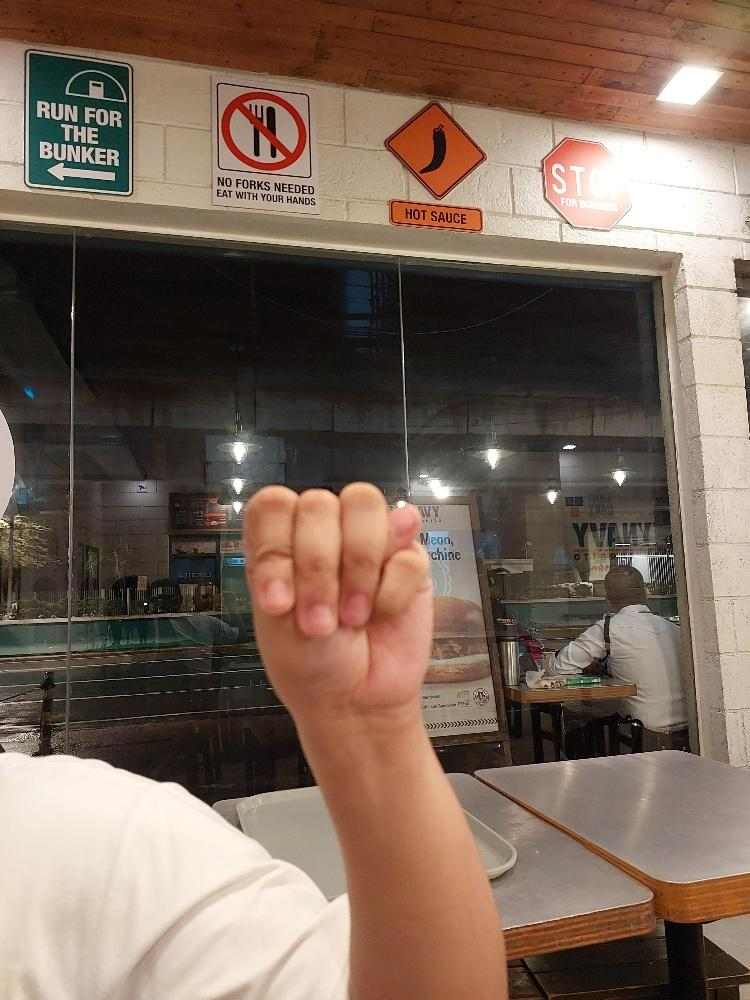m: (240, 478, 435, 713)
